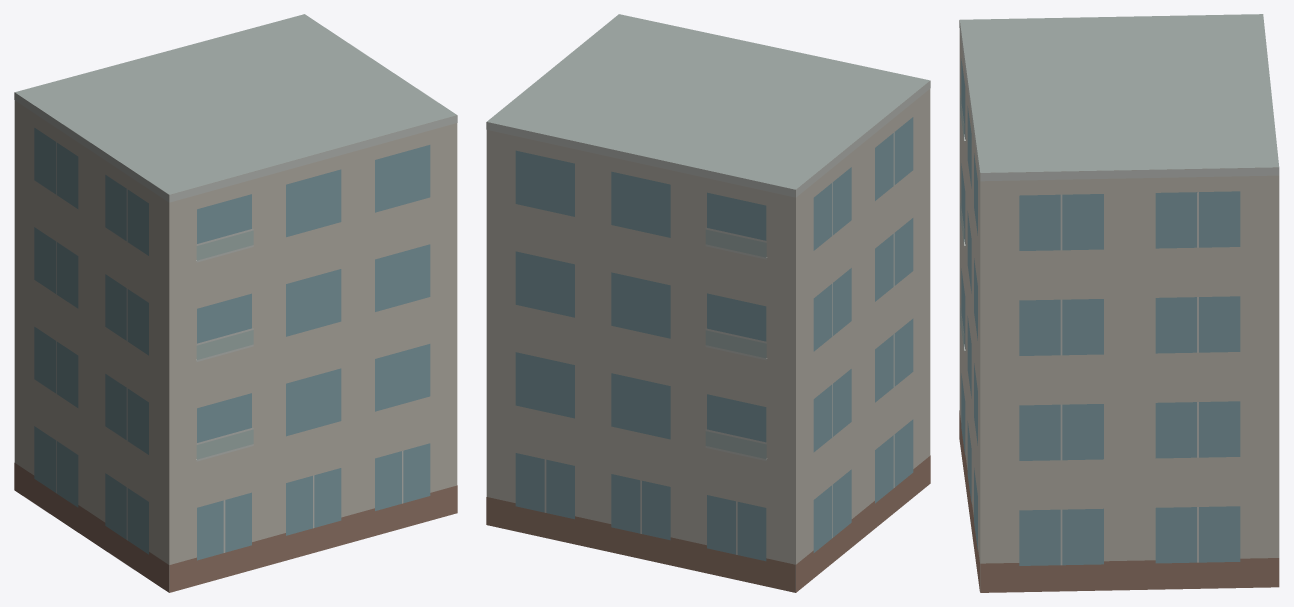
The model's file is survey-upis-32616025.glb.
The picture shows the model from 3 angles, left to right: view 1: azimuth 30°, elevation 25°; view 2: azimuth 150°, elevation 25°; view 3: azimuth 270°, elevation 25°; orthographic projection. The views are drawn at different scales.
Parts seen in each view (by area): view 1: survey-upis-32616025.tmp; view 2: survey-upis-32616025.tmp; view 3: survey-upis-32616025.tmp.
Boxes of the visible parts, bbox=[...] form: survey-upis-32616025.tmp: bbox=[14, 14, 457, 592]; survey-upis-32616025.tmp: bbox=[486, 14, 930, 592]; survey-upis-32616025.tmp: bbox=[959, 14, 1279, 592].
Bounding box in the file's own units: 10.08 × 12.4 × 8.57.
